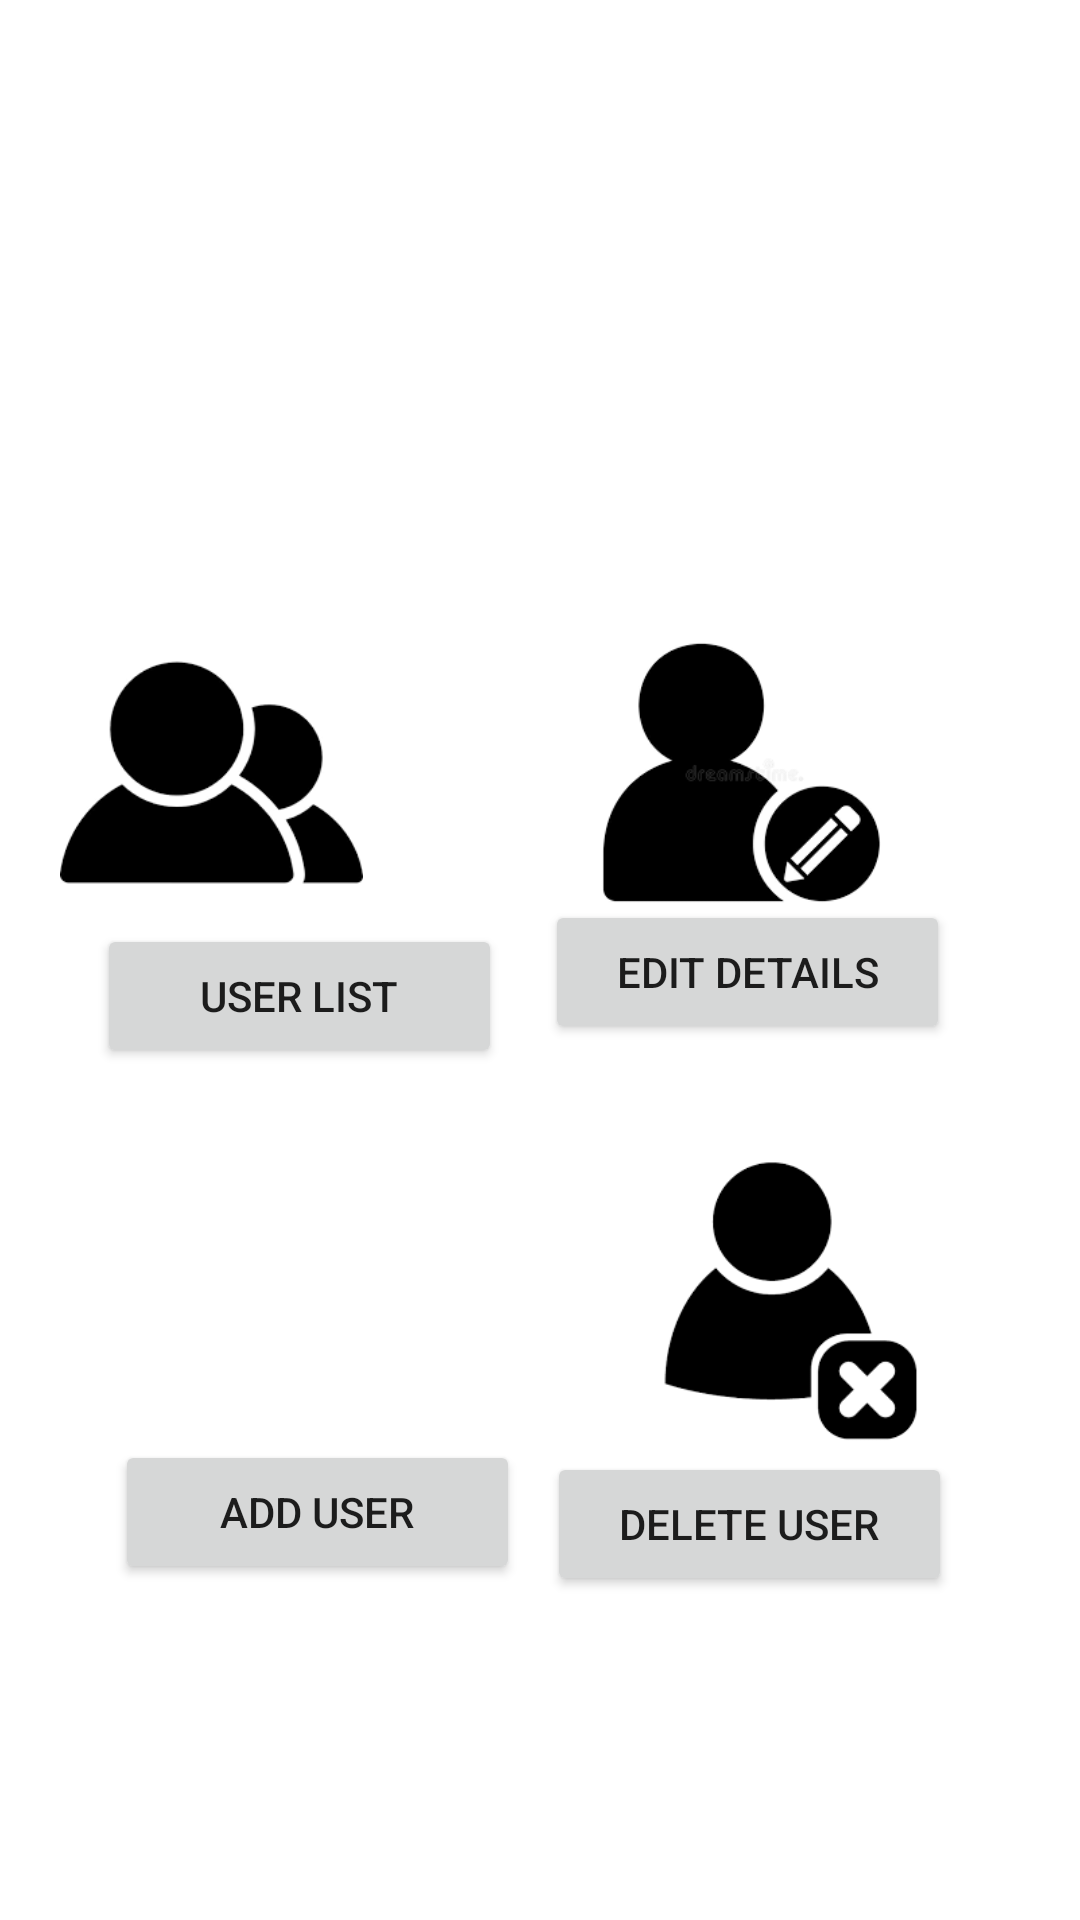

Where icons sit on this 1080 x 1920 app screen, as (x1, y1, x2, y2):
edit user: (603, 643, 880, 902)
